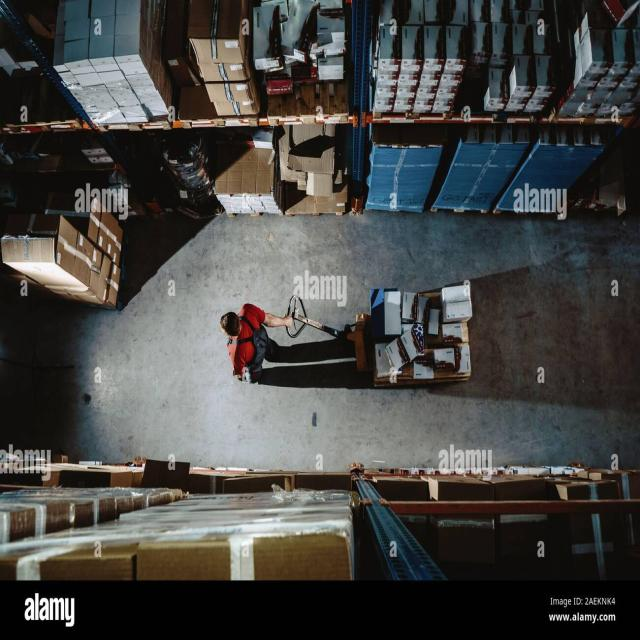box: (538, 140, 591, 223), (376, 146, 432, 217), (464, 141, 507, 215), (193, 32, 247, 66), (443, 25, 470, 70), (202, 66, 254, 86), (590, 28, 612, 69), (512, 58, 532, 102), (613, 32, 633, 72), (403, 28, 423, 65), (378, 30, 398, 65), (487, 66, 506, 102), (209, 88, 252, 103), (538, 62, 554, 94), (426, 32, 440, 67)
